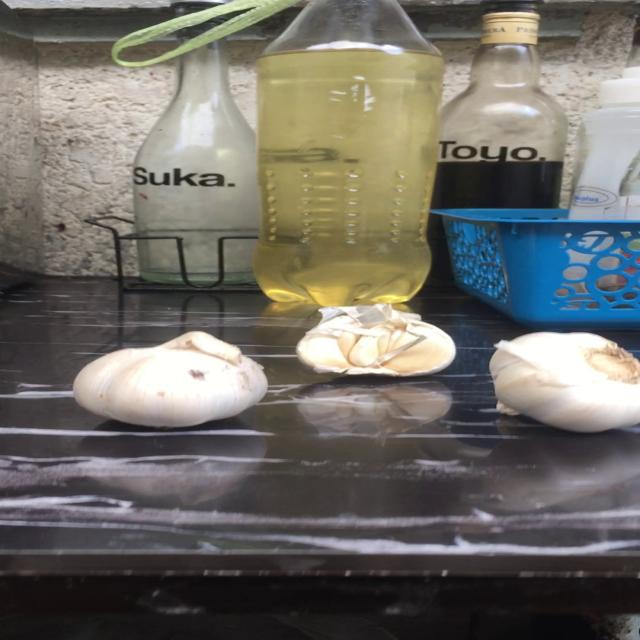garlic: (69, 328, 271, 428), (483, 331, 640, 436), (294, 307, 461, 380)
